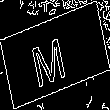M_N: (35, 24, 75, 86)
